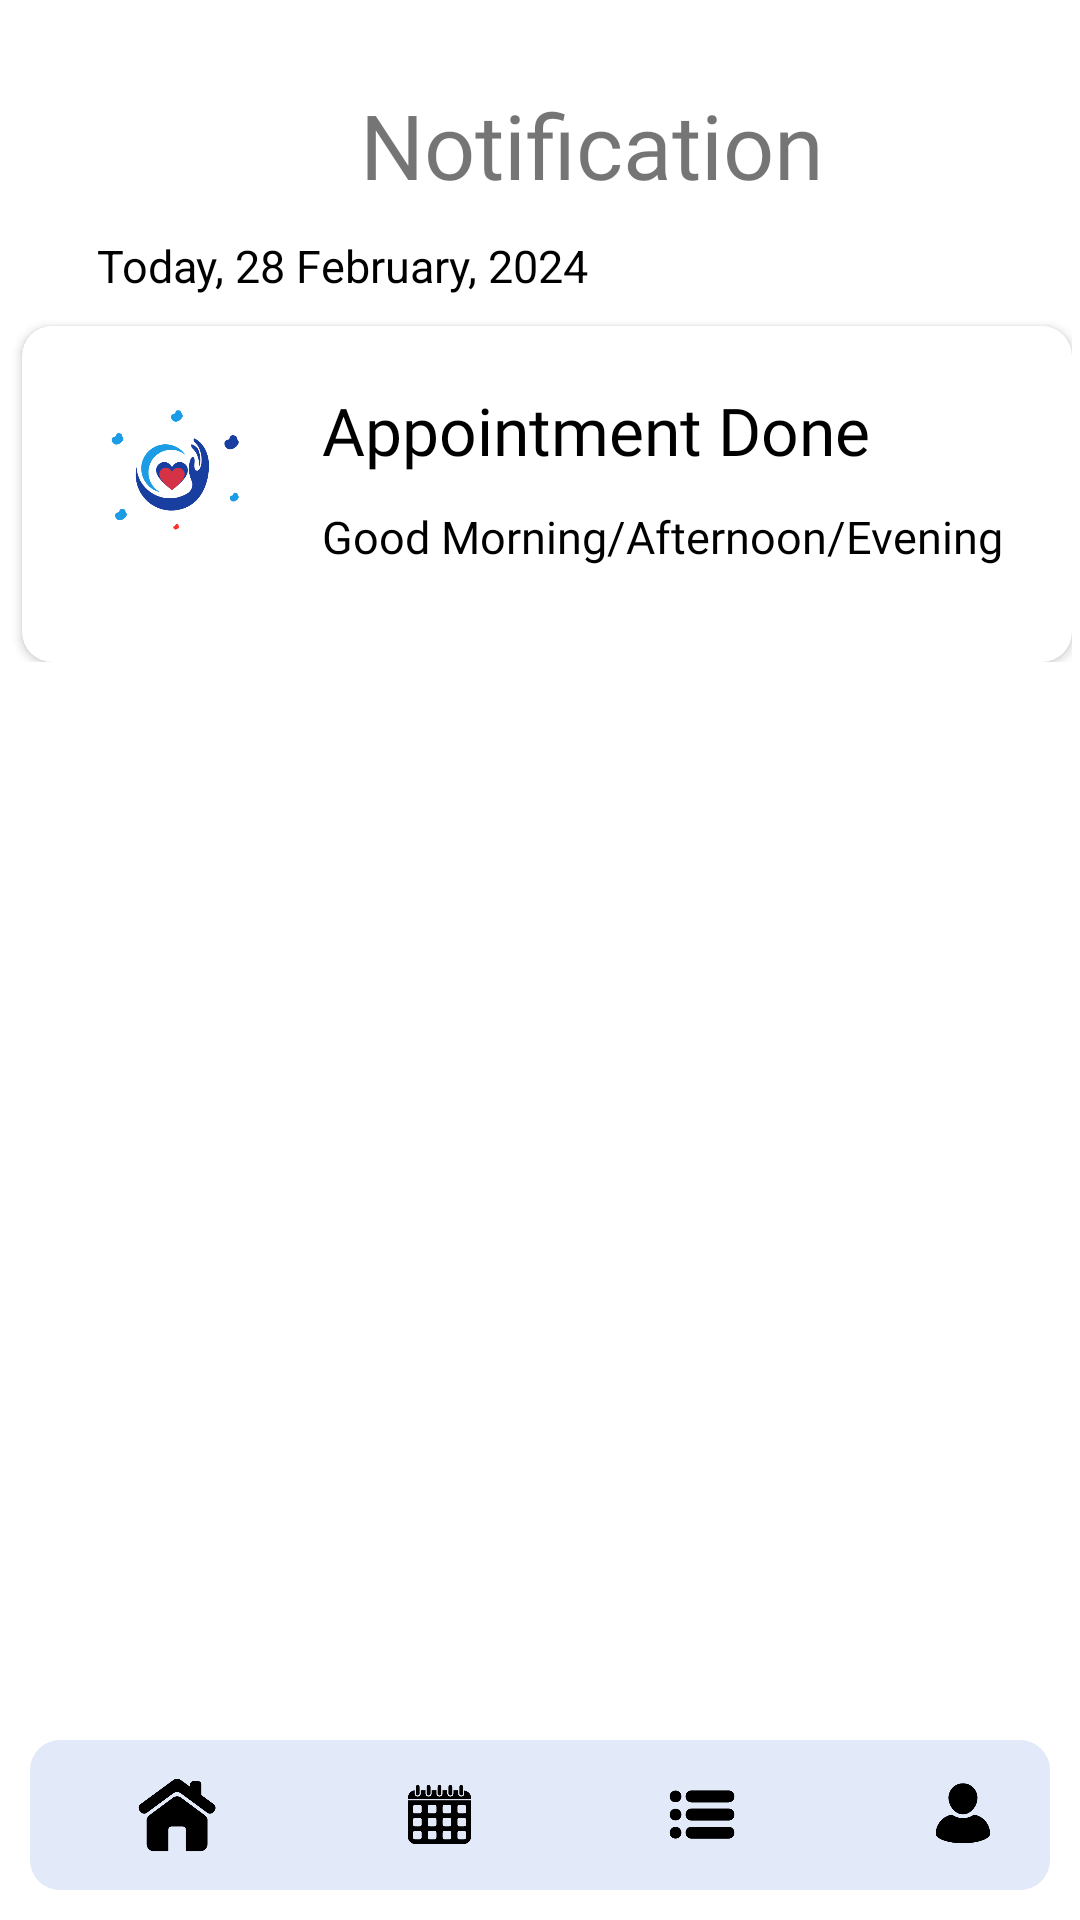

Screen size 1080*1920. Icon name, then its center in pixels as [x,y]:
appointment: [439,1814]
home: [177,1815]
option: [702,1814]
profile: [963,1813]
